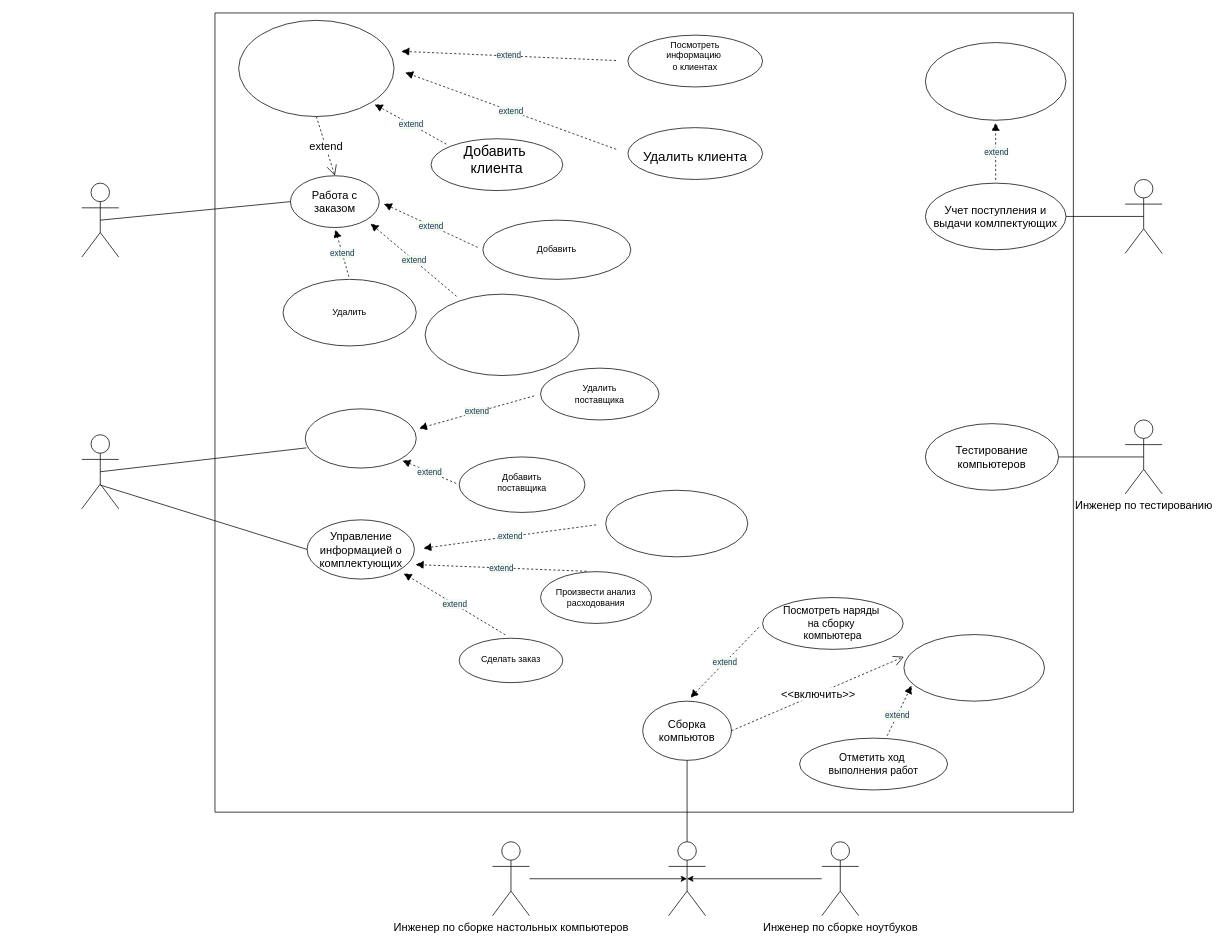
Some shapes in this 1225 by 947 pixel diagram are drawn without their labels. Each missing label, with the centre of its shape:
"Вести учет поступления и выдачи запчастей со склада." goes at point 995,81.
"Завскладом" goes at point 1143,216.
"Изменить" goes at point 501,334.
"Инженер по сборке" goes at point 687,878.
"Менеджер по работе с клиентами" goes at point 100,219.
"Менеджер по снабжению" goes at point 100,471.
"Посмотреть информацию и комплектующих" goes at point 676,523.
"Требование необходимых комплектующих" goes at point 974,667.
"Управление информацией о клиенте" goes at point 316,68.
"Управление информацией о поставщиках" goes at point 360,438.
